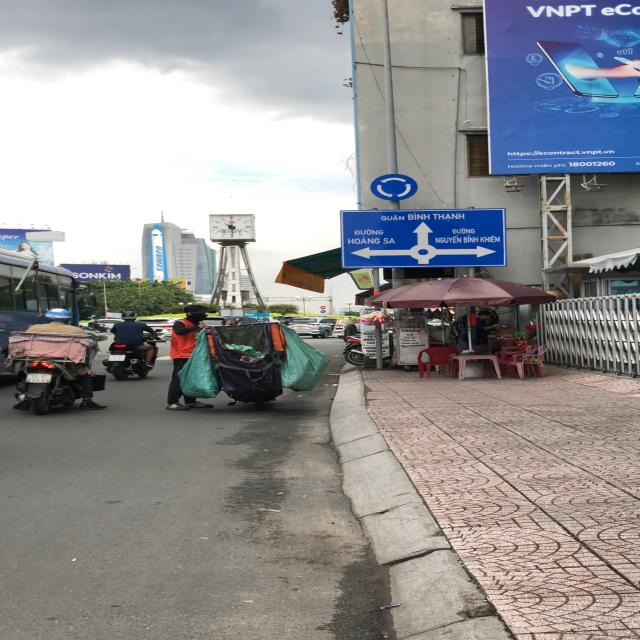Bien bao noi giao nhau chay theo vong xuyen: (368, 170, 424, 202)
